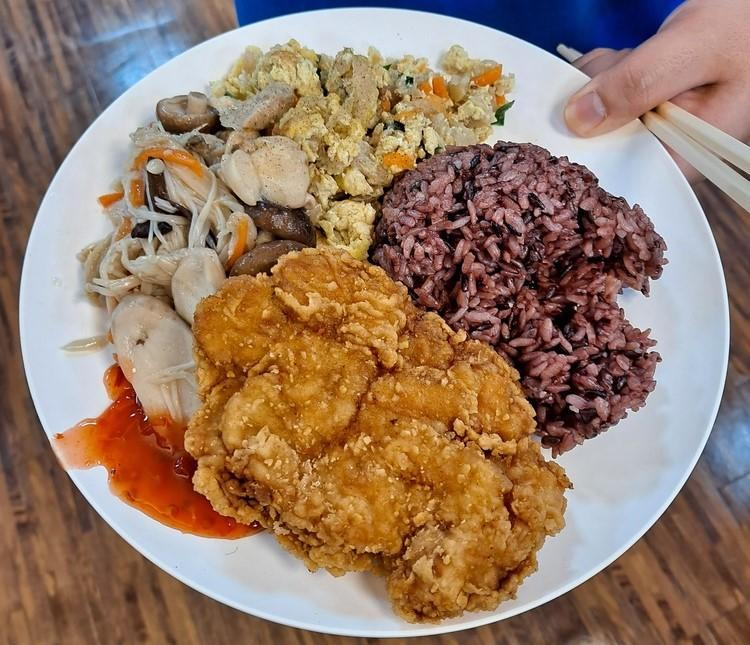big fried chicken leg: (17, 0, 744, 641)
braised fish: (371, 142, 659, 454)
braised fish fillet: (78, 80, 313, 428), (226, 39, 512, 260)
braised pork: (186, 245, 570, 626)
